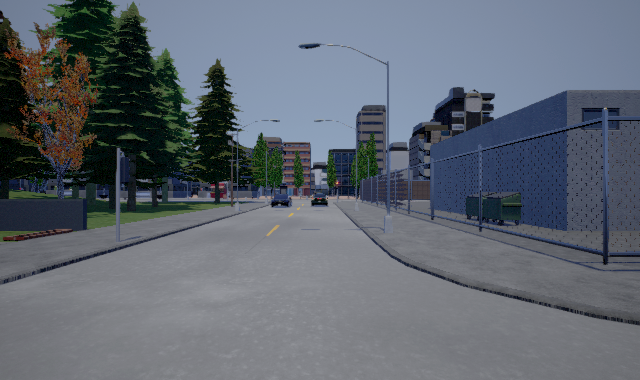traffic_light: (334, 180, 340, 186)
vehicle: (270, 192, 293, 209), (309, 193, 328, 207)
